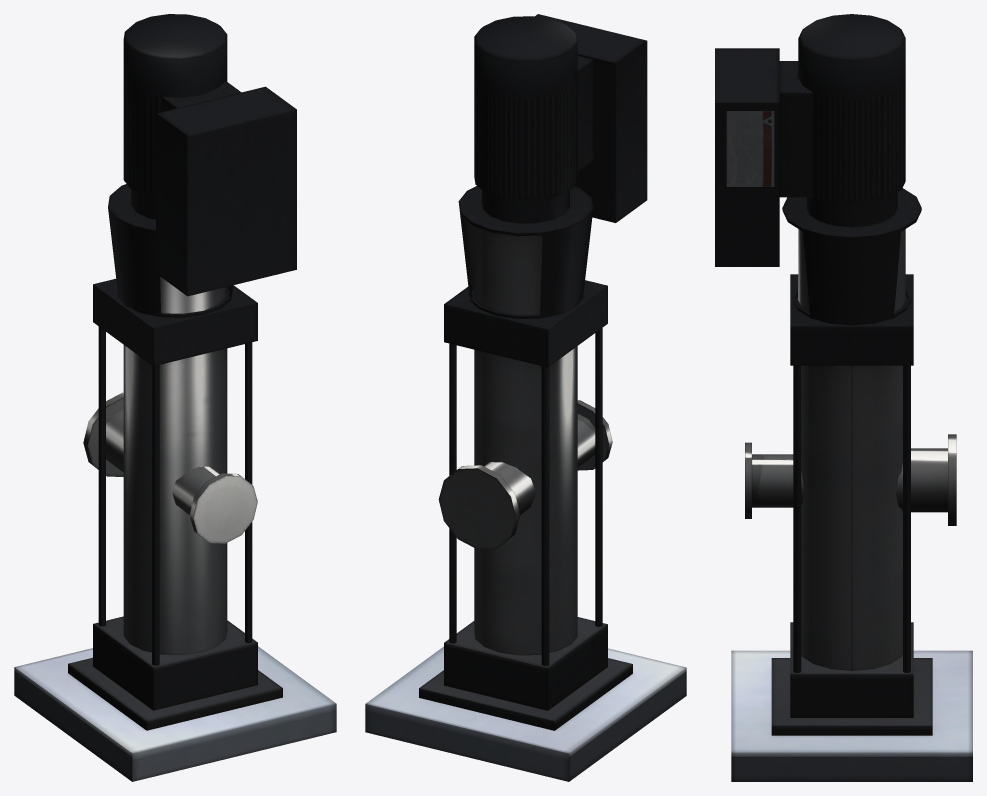
Rendered from lengquebeng004.FBX.
3 renders of one model, left to right at view 1: azimuth 30°, elevation 25°; view 2: azimuth 150°, elevation 25°; view 3: azimuth 270°, elevation 25°, orthographic. The views are drawn at different scales.
Visible parts, largest first — view 1: lengquebeng004; view 2: lengquebeng004; view 3: lengquebeng004.
Part boxes in pixels (x1=…): lengquebeng004: x1=14, y1=14, x2=336, y2=781; lengquebeng004: x1=365, y1=14, x2=686, y2=781; lengquebeng004: x1=715, y1=14, x2=972, y2=781.
Bounding box in the file's own units: 450 × 1430 × 480.
